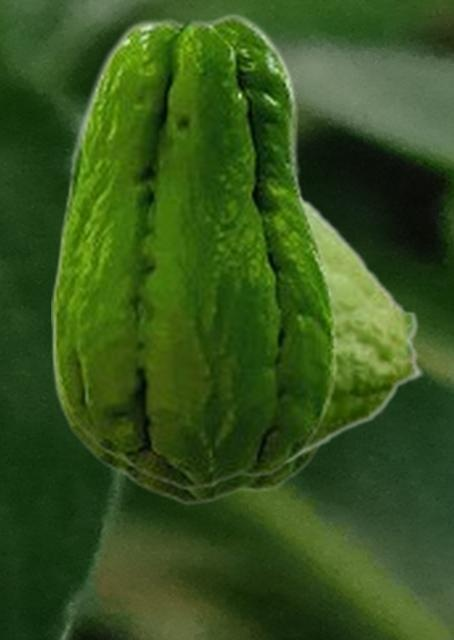sayote: (51, 12, 337, 490), (51, 60, 326, 505), (283, 189, 425, 468)
